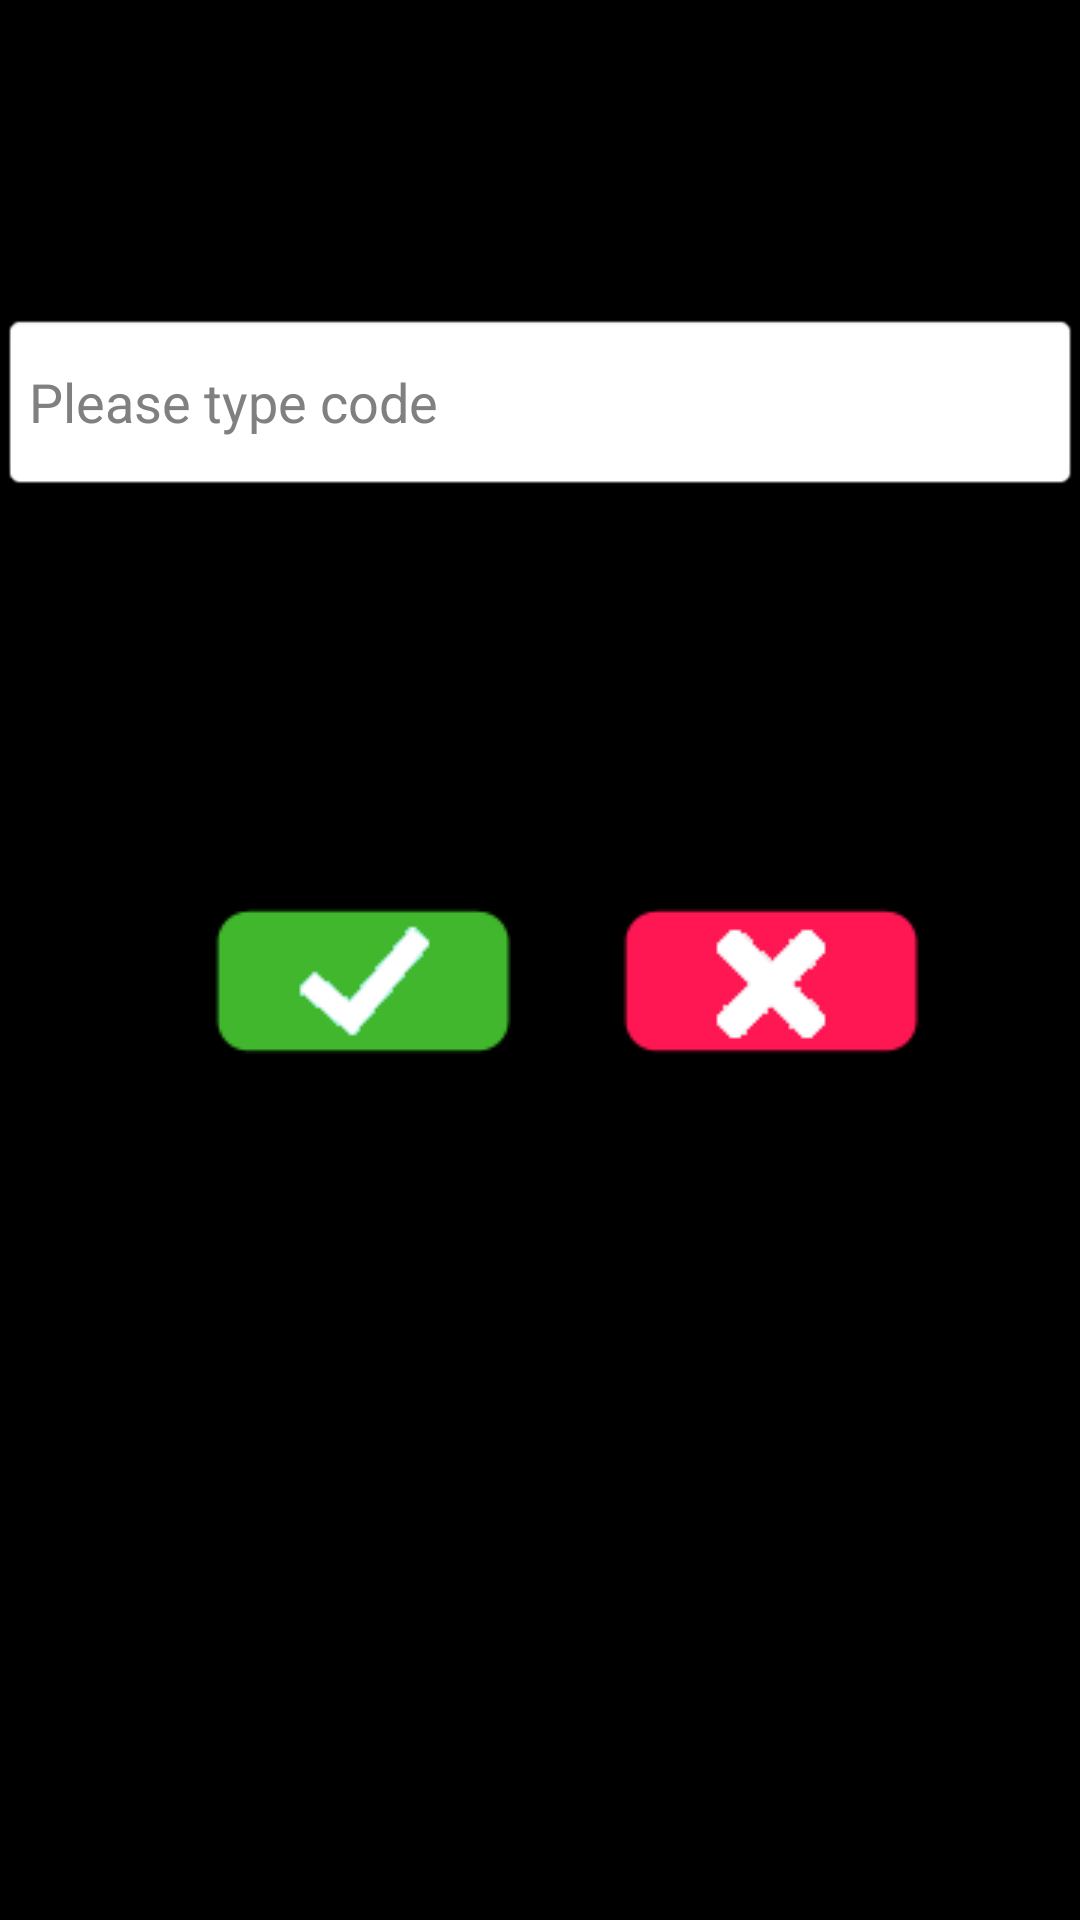

Icon click points for this 1080px×1920px phone screenshot, format point (x, y):
canceltick: point (771, 981)
oktick: point (363, 981)
